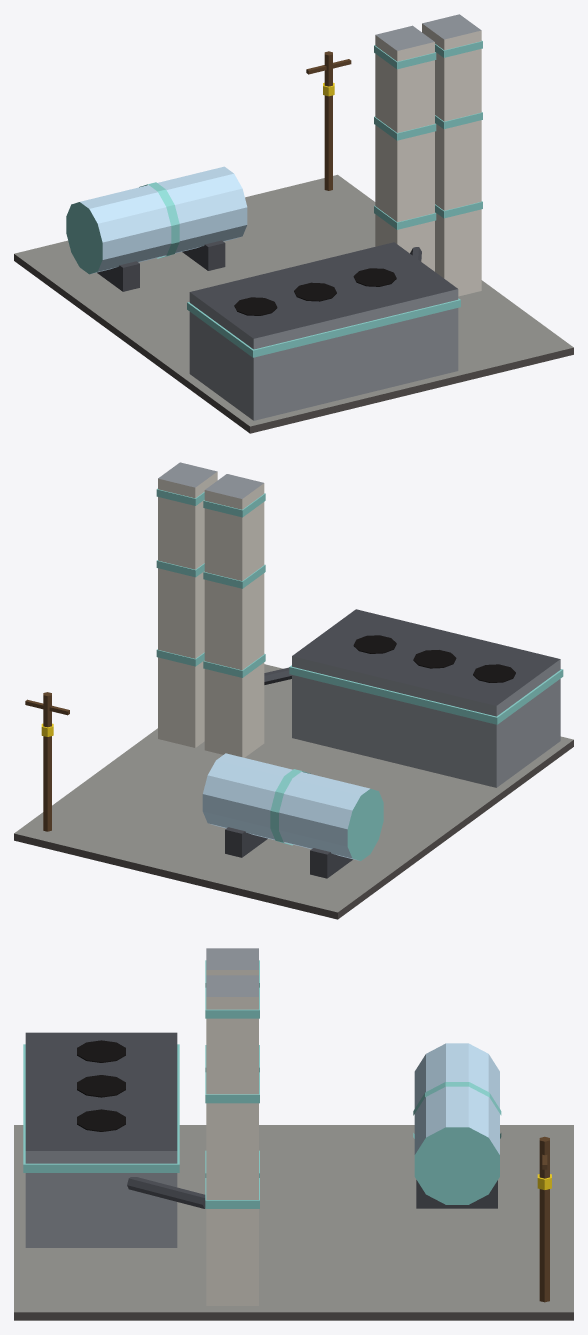
The model's file is air_separator.glb.
The picture shows the model from 3 angles, top to bottom: view 1: azimuth 30°, elevation 25°; view 2: azimuth 150°, elevation 25°; view 3: azimuth 270°, elevation 25°; orthographic projection. The views are drawn at different scales.
Visible parts, largest first — view 1: air_separator; view 2: air_separator; view 3: air_separator.
Part boxes in pixels (<box>): air_separator: <box>14,14,573,433</box>; air_separator: <box>14,462,573,919</box>; air_separator: <box>14,948,573,1320</box>.
Bounding box in the file's own units: 3.8 × 3 × 4.8.
